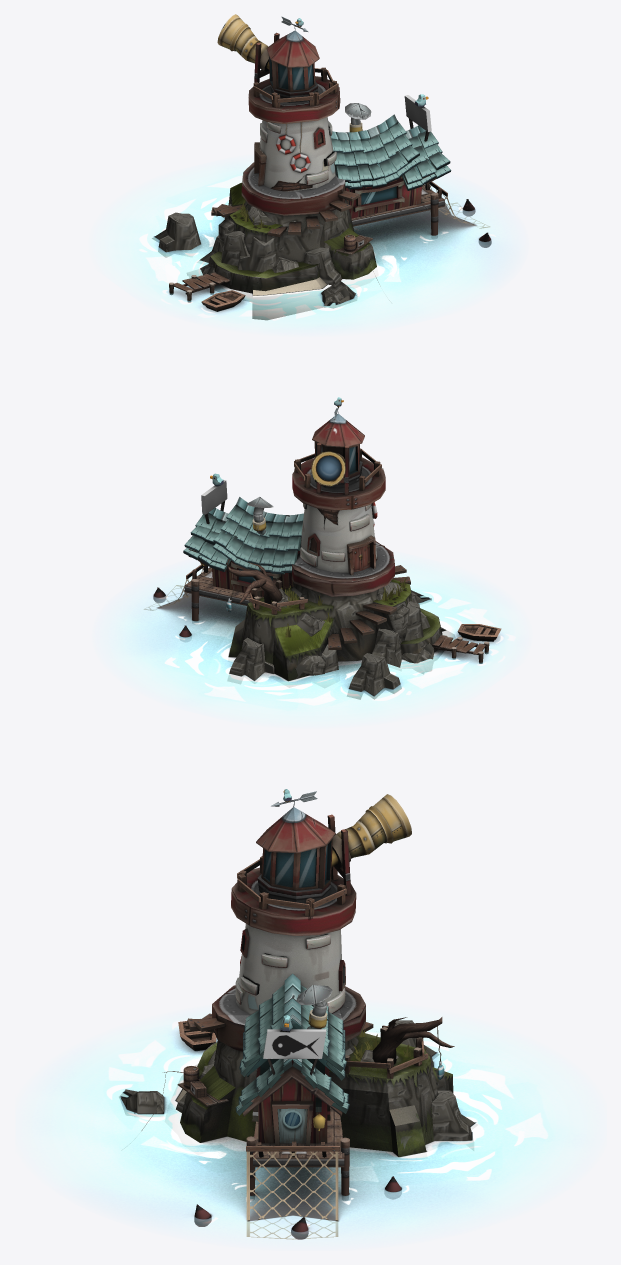
The model's file is The_Lighthouse.glb.
3 views of the same model, one above another, from view 1: azimuth 30°, elevation 25°; view 2: azimuth 150°, elevation 25°; view 3: azimuth 270°, elevation 25° (orthographic). The views are drawn at different scales.
Parts seen in each view (by area): view 1: Plane001_Material #371_0, Cylinder001_Material #343_0, Box091_Material #8721_0, Box003_Material #185_0, Cylinder010_Material #286_0, Box025_Material #288_0, Box063_Material #220_0, Box030_Material #213_0, Box066_Material #288_0, Box062_Material #288_0, Box006_Material #289_0, Box004_Material #144_0 (+1 smaller); view 2: Plane001_Material #371_0, Cylinder001_Material #343_0, Box091_Material #8721_0, Box003_Material #185_0, Box025_Material #288_0, Box054_Material #288_0, Cylinder010_Material #286_0, Cylinder027_Material #312_0, Box060_Material #288_0, Box030_Material #213_0, Box004_Material #144_0, Box035_Material #319_0 (+5 smaller); view 3: Plane001_Material #371_0, Cylinder001_Material #343_0, Box003_Material #185_0, Box091_Material #8721_0, Cylinder010_Material #286_0, Plane002_22 - Default_0, Box004_Material #144_0, Box054_Material #288_0, Cylinder027_Material #312_0, Box006_Material #289_0, Box043_Material #188_0, Cylinder006_Material #186_0 (+2 smaller).
Part boxes in pixels (x1,y1,x2,y2): Plane001_Material #371_0: (99,158,518,332); Cylinder001_Material #343_0: (208,30,376,320); Box091_Material #8721_0: (331,120,451,190); Box003_Material #185_0: (331,103,445,226); Cylinder010_Material #286_0: (217,14,269,71); Box025_Material #288_0: (152,212,200,257); Box063_Material #220_0: (237,236,277,272); Box030_Material #213_0: (169,272,230,302); Box066_Material #288_0: (304,247,341,285); Box062_Material #288_0: (221,231,248,266); Box006_Material #289_0: (321,280,357,308); Box004_Material #144_0: (404,95,431,141); Plane001_Material #371_0: (102,554,522,724); Cylinder001_Material #343_0: (228,413,455,681); Box091_Material #8721_0: (183,505,302,574); Box003_Material #185_0: (184,497,303,605); Box025_Material #288_0: (347,653,401,699); Box054_Material #288_0: (228,637,274,683); Cylinder010_Material #286_0: (311,451,346,486); Cylinder027_Material #312_0: (228,562,282,603); Box060_Material #288_0: (372,628,401,667); Box030_Material #213_0: (432,635,489,663); Box004_Material #144_0: (201,479,227,524); Box035_Material #319_0: (457,624,501,641); Plane001_Material #371_0: (23,1005,596,1245); Cylinder001_Material #343_0: (176,807,453,1156); Box003_Material #185_0: (242,973,344,1167); Box091_Material #8721_0: (235,984,349,1115); Cylinder010_Material #286_0: (331,794,411,867); Plane002_22 - Default_0: (246,1151,338,1239); Box004_Material #144_0: (263,1029,326,1075); Box054_Material #288_0: (431,1090,474,1149); Cylinder027_Material #312_0: (372,1017,454,1064); Box006_Material #289_0: (119,1089,163,1116); Box043_Material #188_0: (344,1025,428,1078); Cylinder006_Material #186_0: (246,1136,349,1200).
Size of the model in its own units: 800 by 520 by 800.
Materials: 29 (28 with a texture image).
